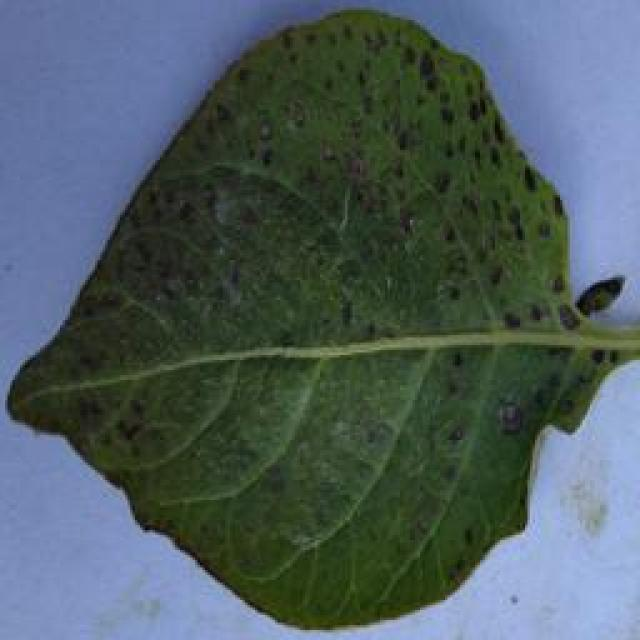Potato_Early_Blight: (2, 2, 634, 632)
